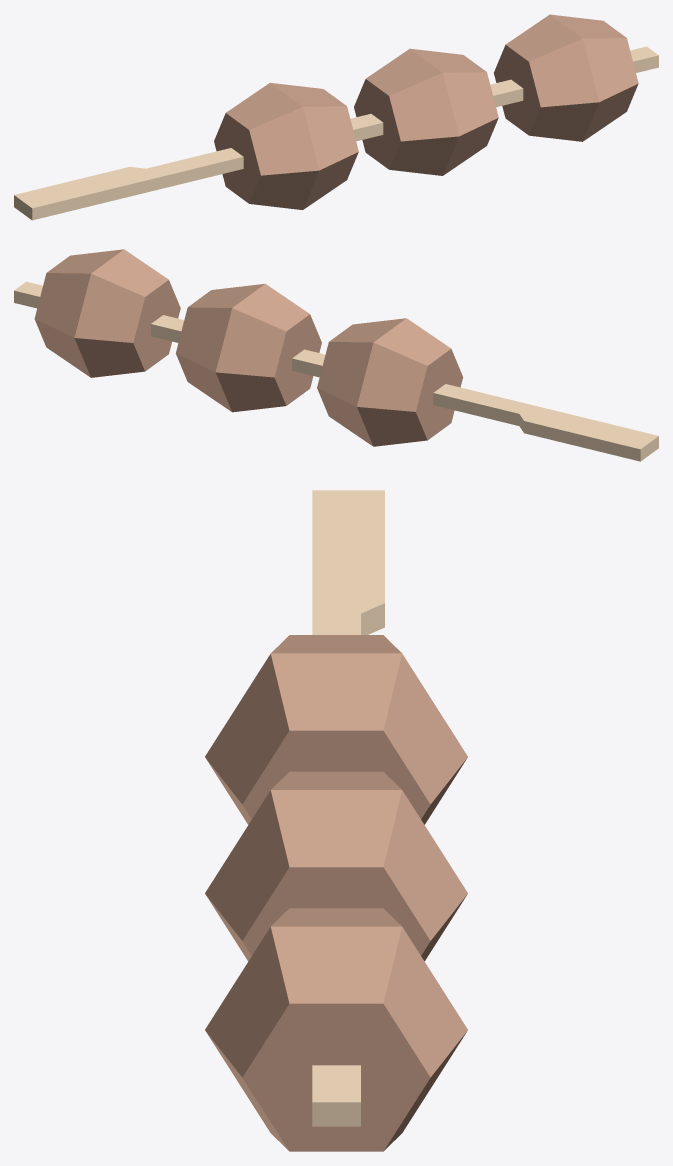
The model's file is skewer.glb.
3 views of the same model, one above another, from view 1: azimuth 30°, elevation 25°; view 2: azimuth 150°, elevation 25°; view 3: azimuth 270°, elevation 25° (orthographic). The views are drawn at different scales.
Visible parts, largest first — view 1: meat (×3), skewer; view 2: meat (×3), skewer; view 3: meat (×3), skewer.
Boxes of the visible parts, x1,y1,x2,y2 form: meat (×3): (214, 14, 638, 209); skewer: (14, 46, 658, 220); meat (×3): (34, 249, 463, 446); skewer: (14, 281, 658, 461); meat (×3): (205, 635, 467, 1151); skewer: (312, 490, 384, 1126).
Bounding box in the file's own units: 0.5967 × 0.094 × 0.1085.
